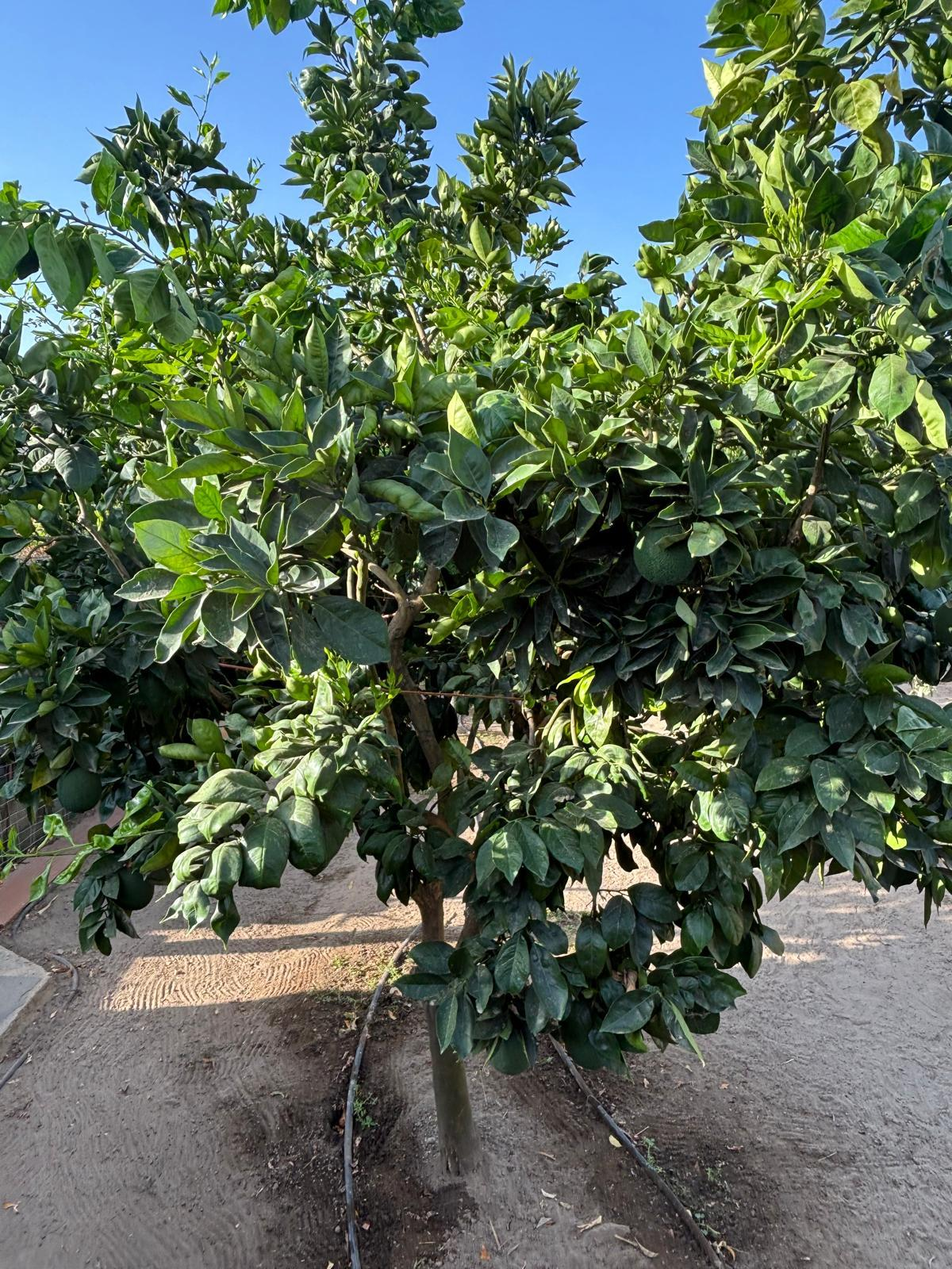naranjo: (122, 342, 800, 1181)
